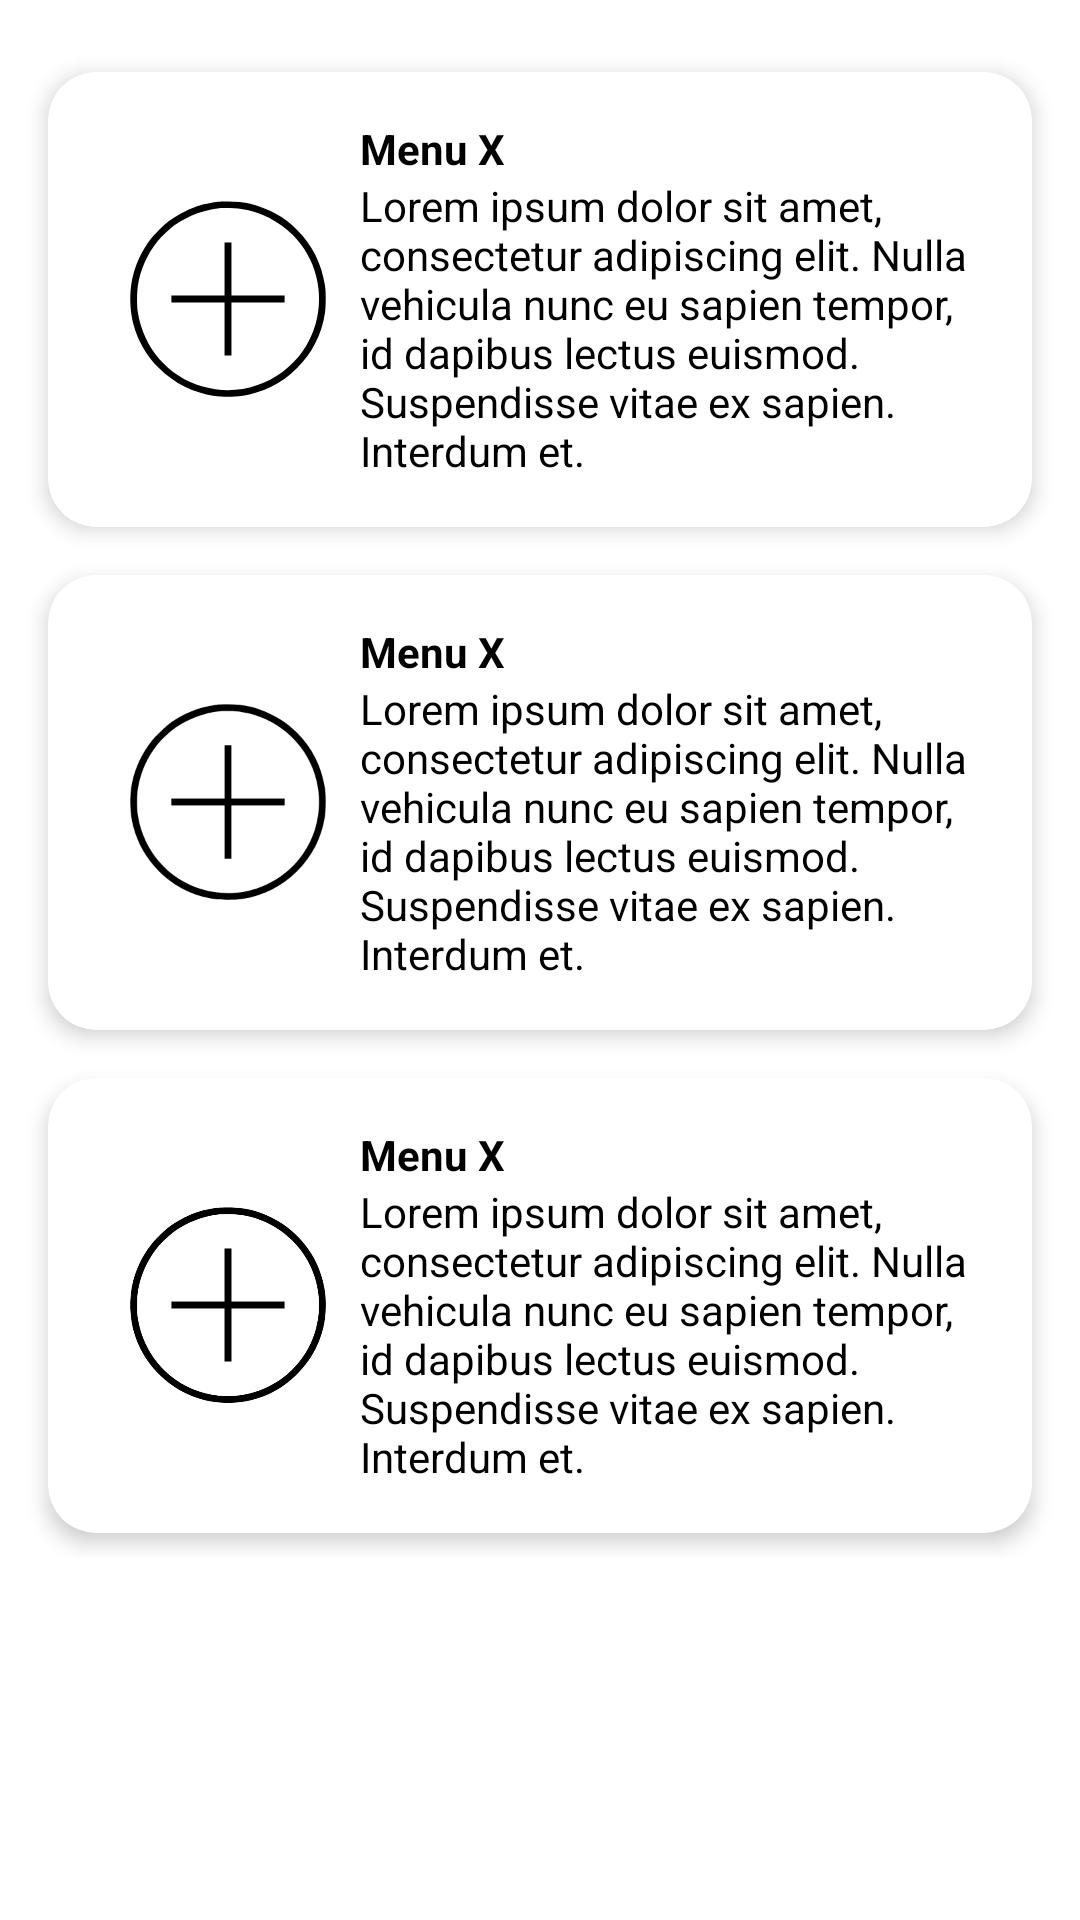

Screen size 1080x1920. Icon name, then its center in pixels as (x=x, y=y):
add plus: (x=228, y=299), (x=228, y=802), (x=228, y=1305)
